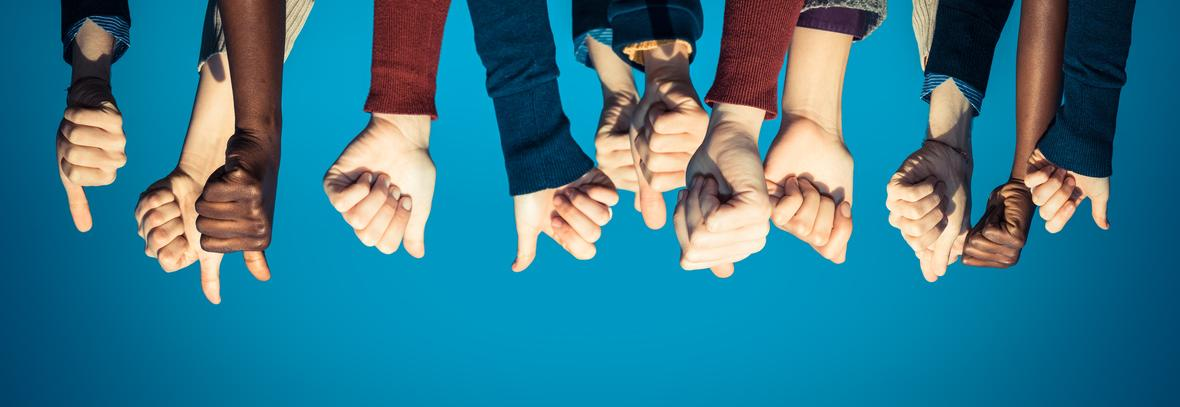thumbsdown: (133, 188, 222, 305), (510, 183, 620, 275), (54, 104, 128, 235), (194, 167, 274, 283), (1023, 139, 1117, 233), (635, 99, 695, 229), (886, 172, 949, 277)
